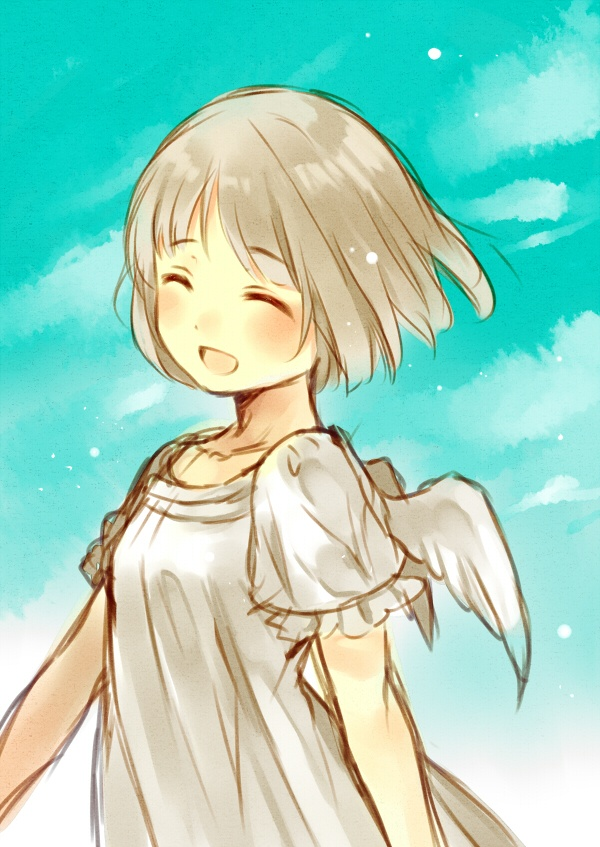纸片人正脸: (131, 77, 414, 404)
